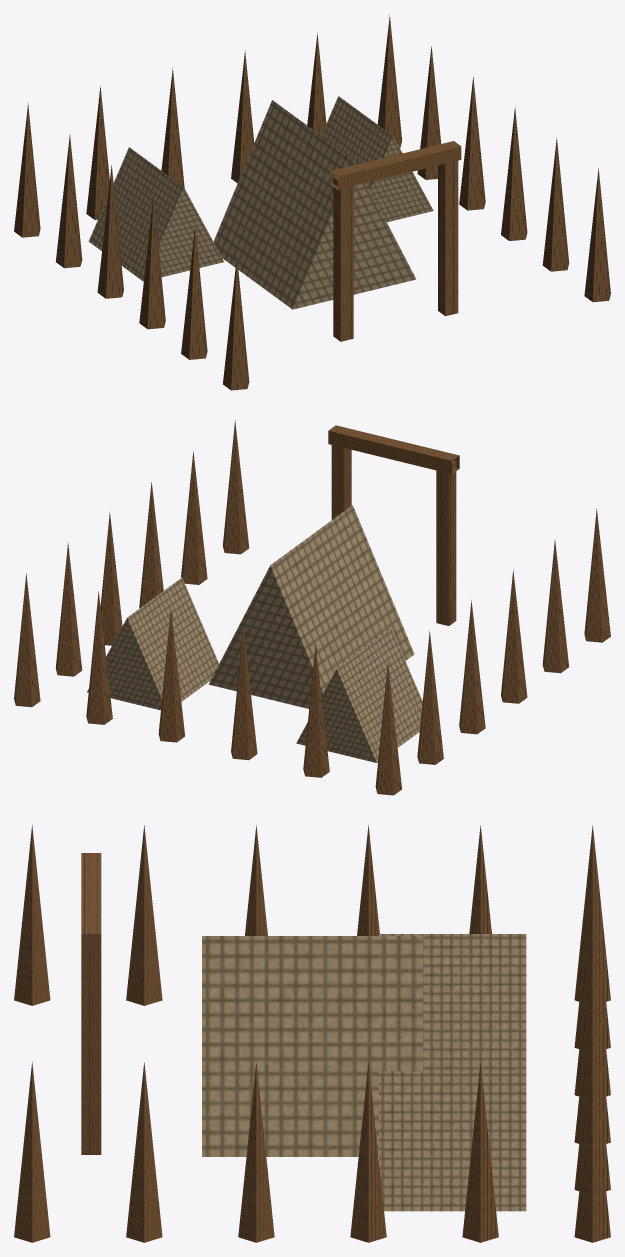
File: military-FORT-1-lod1.glb
3 renders of one model, top to bottom at view 1: azimuth 30°, elevation 25°; view 2: azimuth 150°, elevation 25°; view 3: azimuth 270°, elevation 25°, orthographic. The views are drawn at different scales.
Bounding box in the file's own units: 0.807 × 0.3335 × 0.8095.
Materials: 1 (1 with a texture image).
